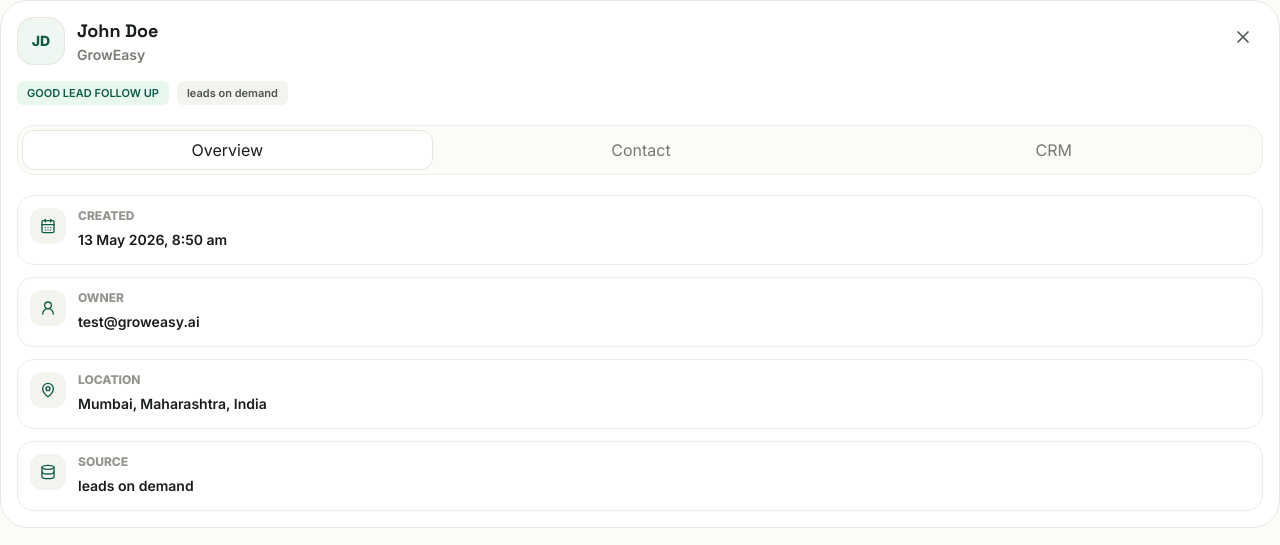
Scenario: ImportWorkspace › switches lead detail tabs
Click the tab "CRM".
click(1054, 150)  # box [849, 130, 1258, 170]
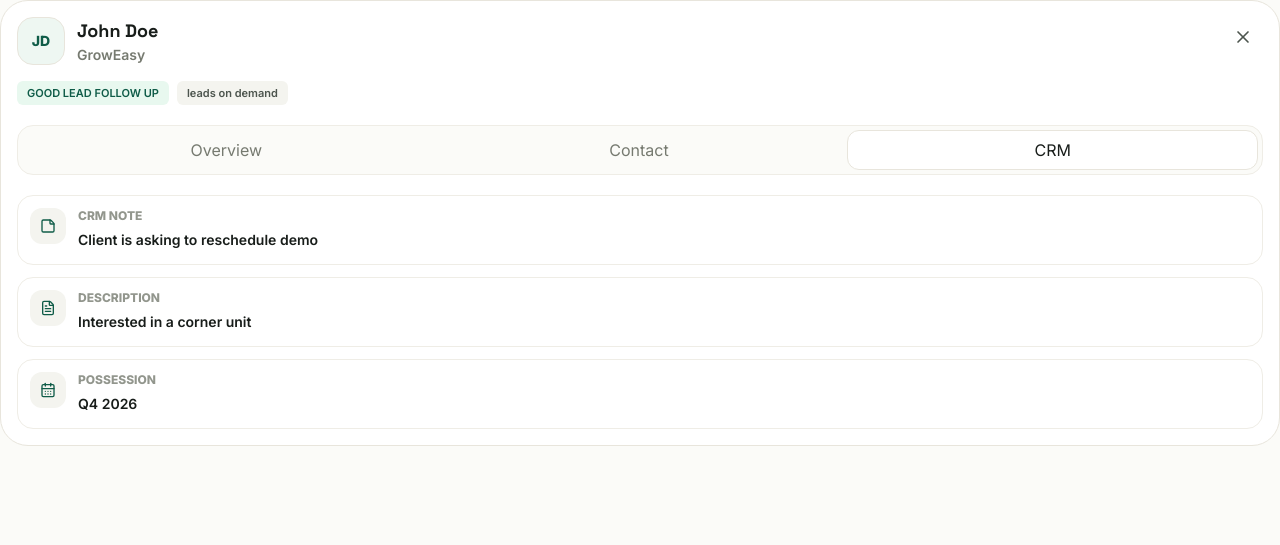
Result: the panel shows "Client is asking to reschedule demo" at [78, 231, 318, 248]
